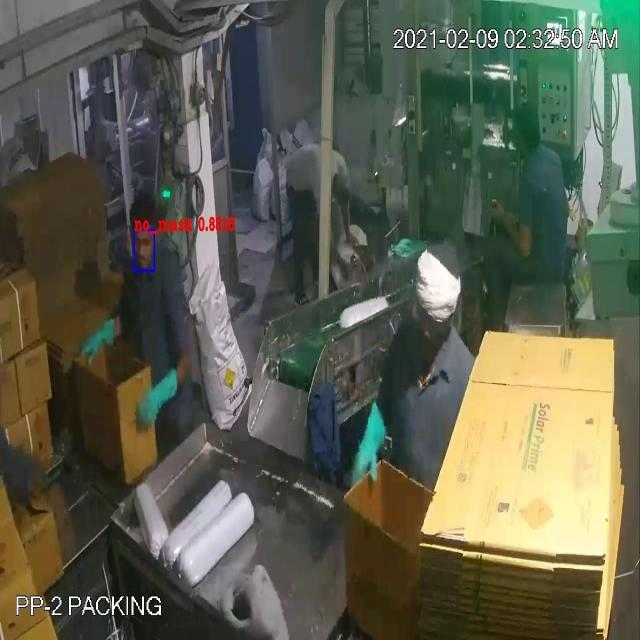No_Gloves: (27, 62, 512, 459)
